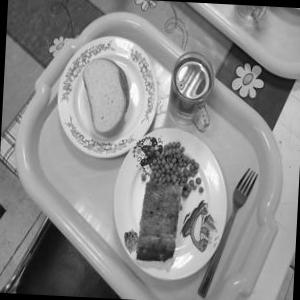bread: (73, 47, 133, 150)
casserole: (120, 130, 238, 278)
